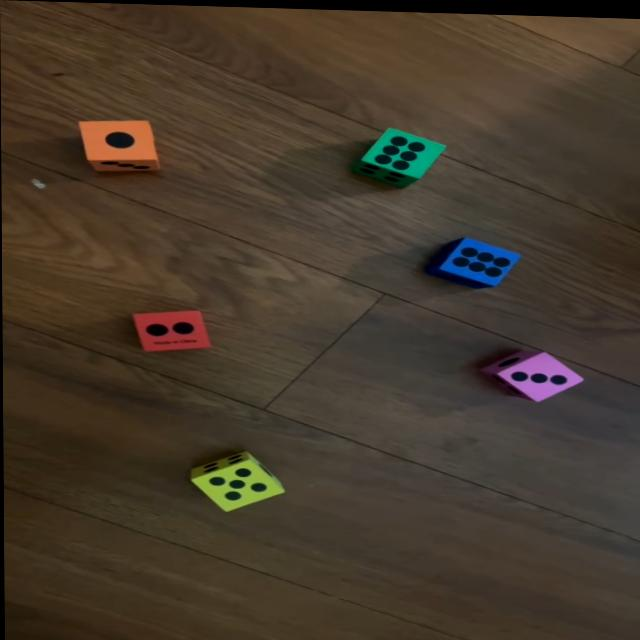blue_block: (423, 233, 523, 287)
red_block: (132, 307, 212, 353)
